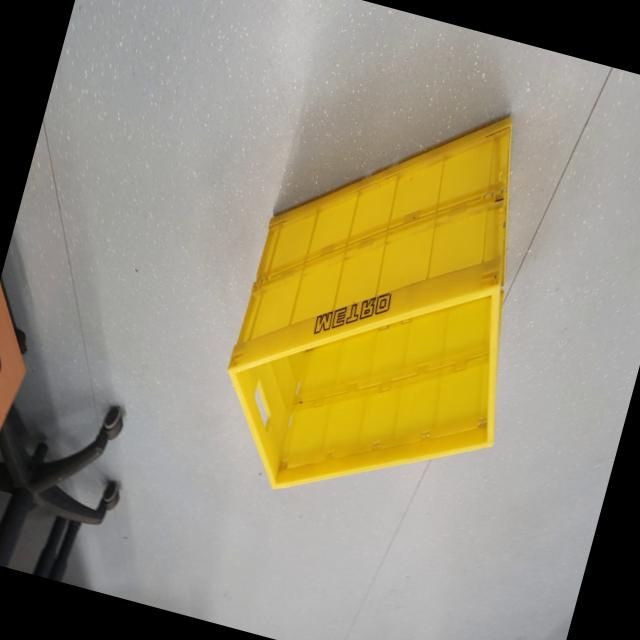box: (189, 32, 586, 567)
